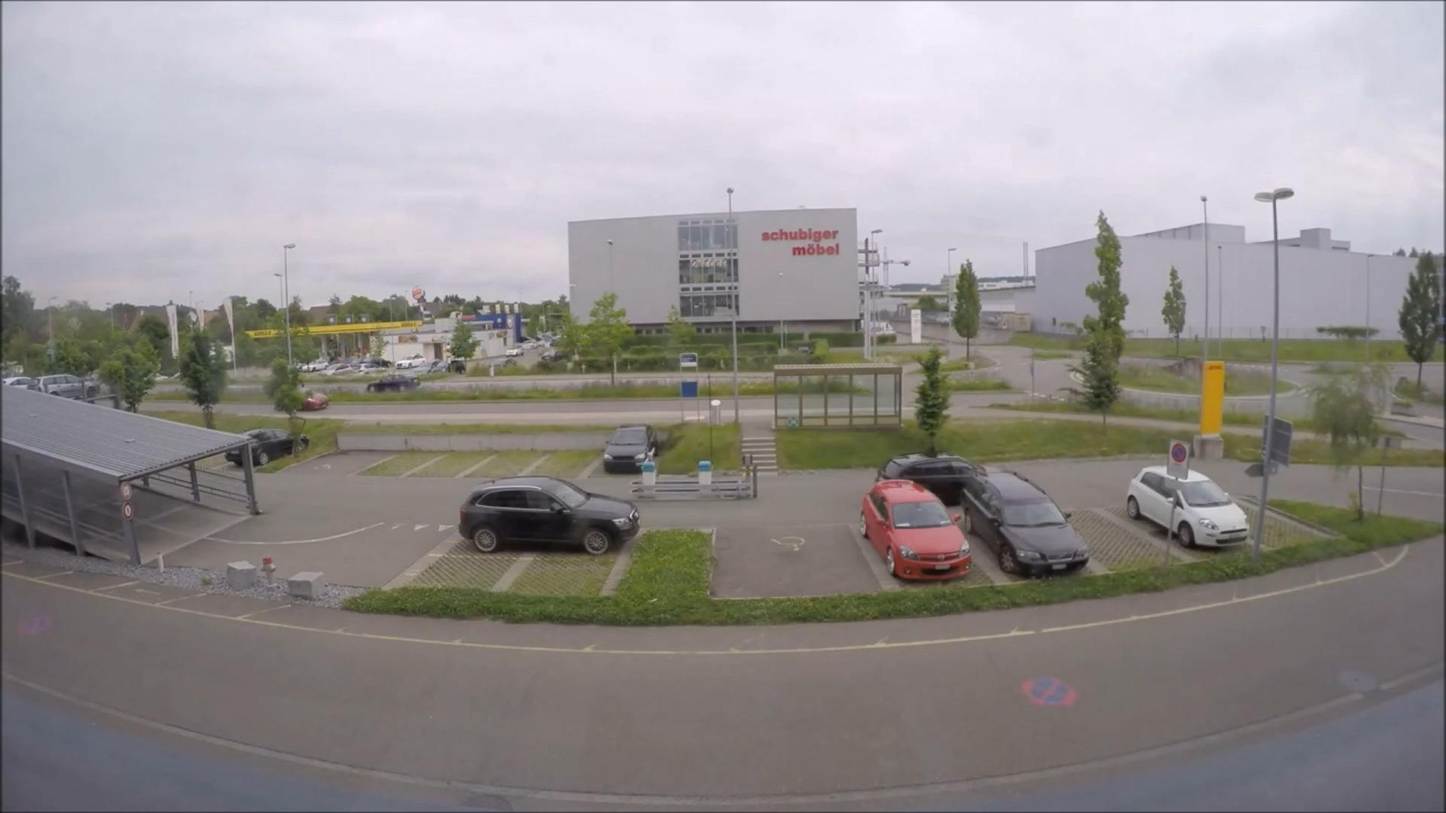available space: (396, 355, 429, 369), (297, 360, 328, 372)
occupied: (457, 475, 643, 557), (960, 468, 1092, 576), (1124, 464, 1251, 549), (876, 452, 978, 507), (224, 429, 308, 468), (601, 424, 656, 472), (39, 374, 99, 401), (366, 374, 421, 393), (358, 358, 392, 370), (3, 376, 33, 389), (541, 350, 566, 362), (505, 346, 525, 357)
